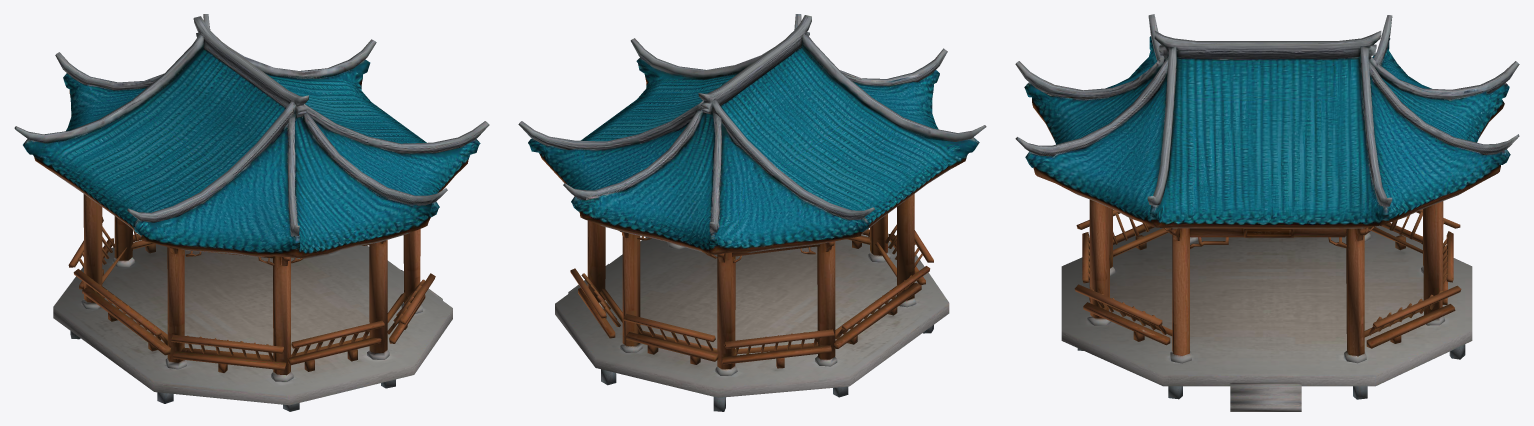
File: ouxiang.glb
3 renders of one model, left to right at view 1: azimuth 30°, elevation 25°; view 2: azimuth 150°, elevation 25°; view 3: azimuth 270°, elevation 25°, orthographic. The views are drawn at different scales.
Visible parts, largest first — view 1: tripo_node_95585a9c-7e25-456e-936f-c200cb652c22; view 2: tripo_node_95585a9c-7e25-456e-936f-c200cb652c22; view 3: tripo_node_95585a9c-7e25-456e-936f-c200cb652c22.
Boxes of the visible parts, x1,y1,x2,y2 form: tripo_node_95585a9c-7e25-456e-936f-c200cb652c22: (14, 14, 489, 411); tripo_node_95585a9c-7e25-456e-936f-c200cb652c22: (518, 14, 986, 411); tripo_node_95585a9c-7e25-456e-936f-c200cb652c22: (1015, 14, 1519, 411).
Bounding box in the file's own units: 0.8652 × 0.6426 × 0.998.
1 material, 1 textured.
